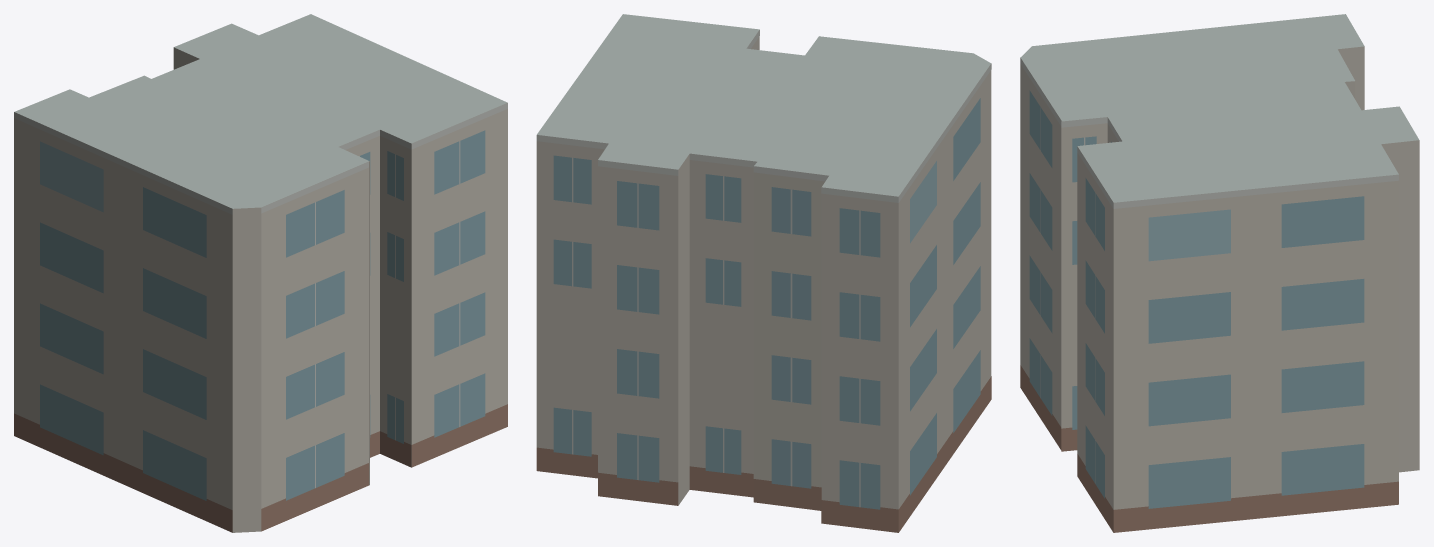
Rendered from survey-upis-33036327.glb.
3 renders of one model, left to right at view 1: azimuth 30°, elevation 25°; view 2: azimuth 150°, elevation 25°; view 3: azimuth 270°, elevation 25°, orthographic. The views are drawn at different scales.
Parts seen in each view (by area): view 1: survey-upis-33036327.tmp; view 2: survey-upis-33036327.tmp; view 3: survey-upis-33036327.tmp.
Part boxes in pixels (x1,y1,x2,y2): survey-upis-33036327.tmp: (14, 14, 507, 532); survey-upis-33036327.tmp: (536, 14, 991, 532); survey-upis-33036327.tmp: (1020, 14, 1419, 532).
Bounding box in the file's own units: 15.95 × 13 × 14.26.
